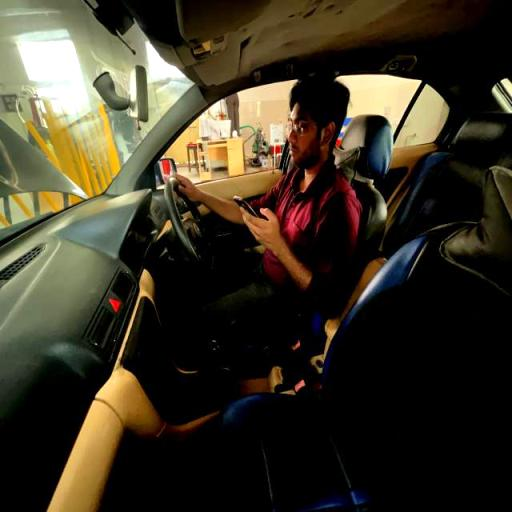Texting_on_phone: (171, 77, 364, 312)
